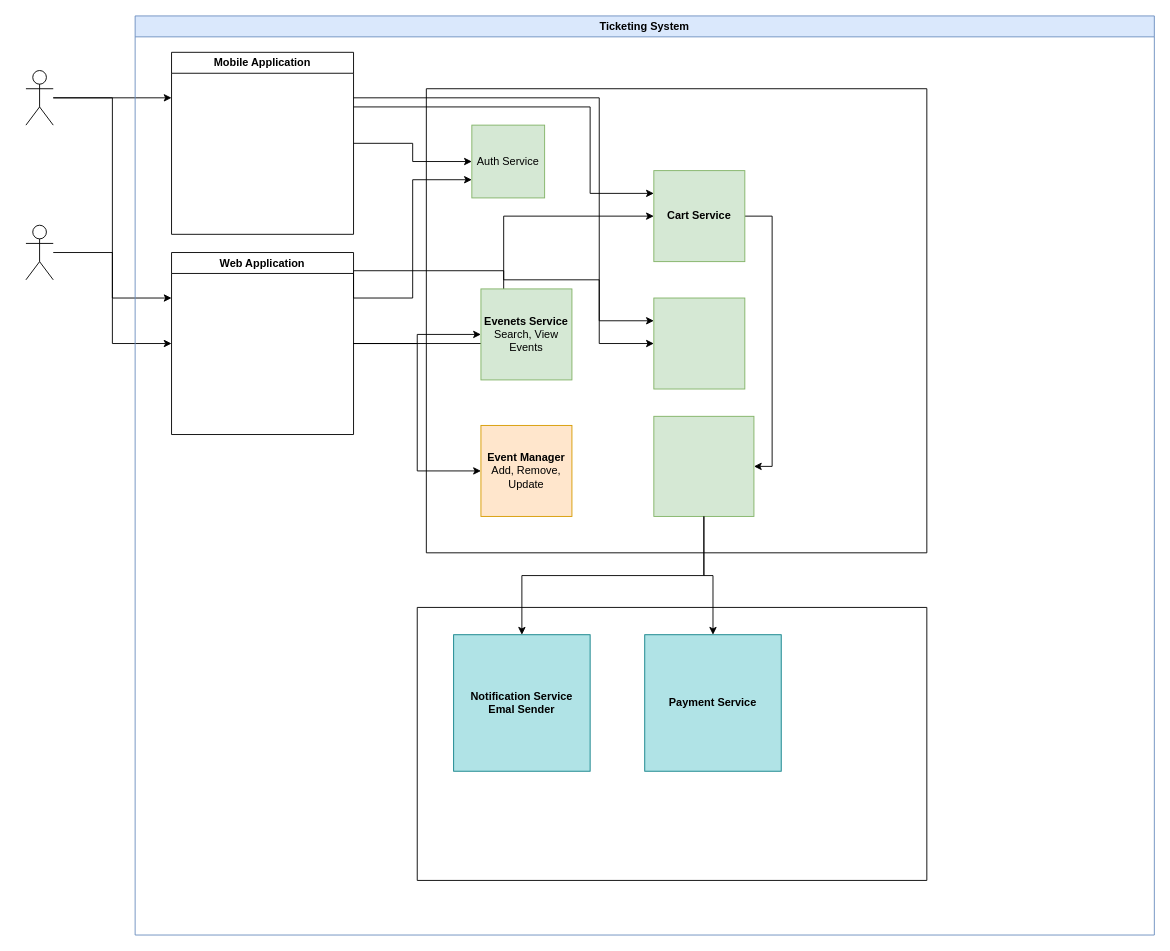
Some shapes in this 1170 by 951 pixel diagram are drawn without their labels. Each missing label, with the box of its shape:
Customer: (25, 70, 53, 125)
Manager: (25, 224, 53, 280)
Purchase Service: (653, 415, 754, 516)
Search Service Search by seat, price, availability: (653, 297, 745, 389)
